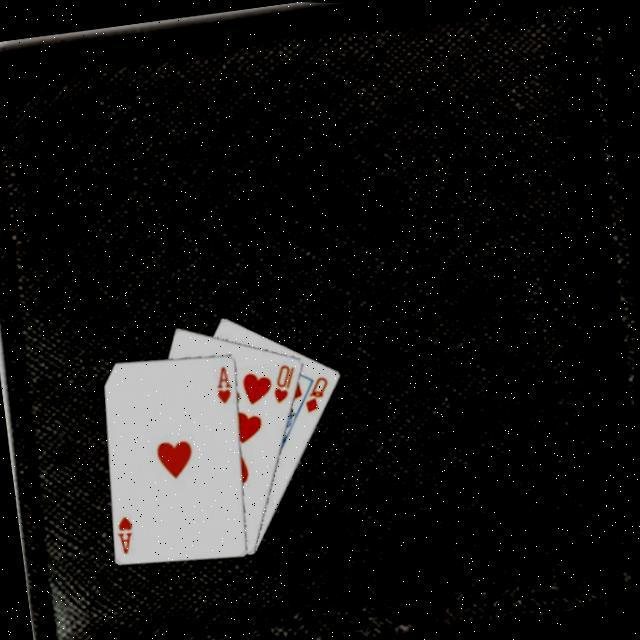10H: (266, 359, 301, 405)
AH: (113, 512, 140, 557), (210, 361, 237, 405)
QD: (297, 371, 335, 415)
